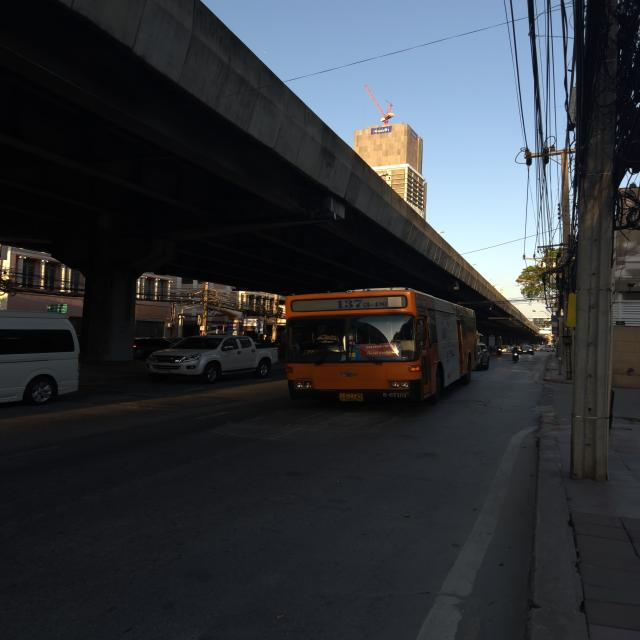BMTA-bus: (278, 288, 478, 407)
Bus-Line-Number: (333, 298, 388, 309)
Destination-Sign-Extra-Bus: (359, 343, 398, 358)
